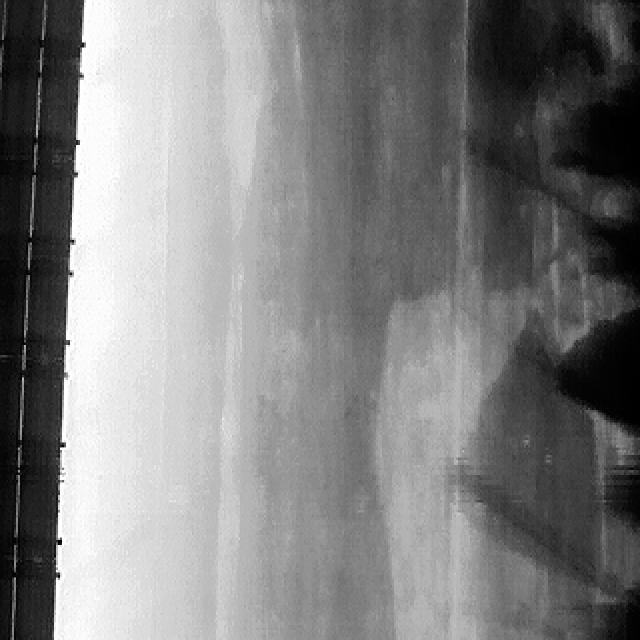PV-modules: (23, 254, 67, 360), (21, 356, 62, 468), (32, 159, 75, 259), (39, 62, 81, 162), (16, 467, 58, 566), (0, 54, 38, 158), (10, 557, 54, 640), (0, 159, 32, 261), (0, 0, 44, 61), (44, 0, 86, 62)
